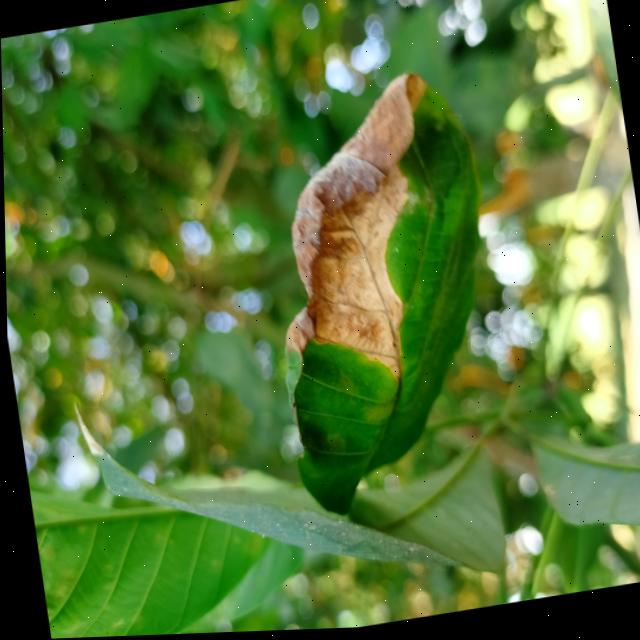Leaf-Blight: (248, 71, 468, 400)
